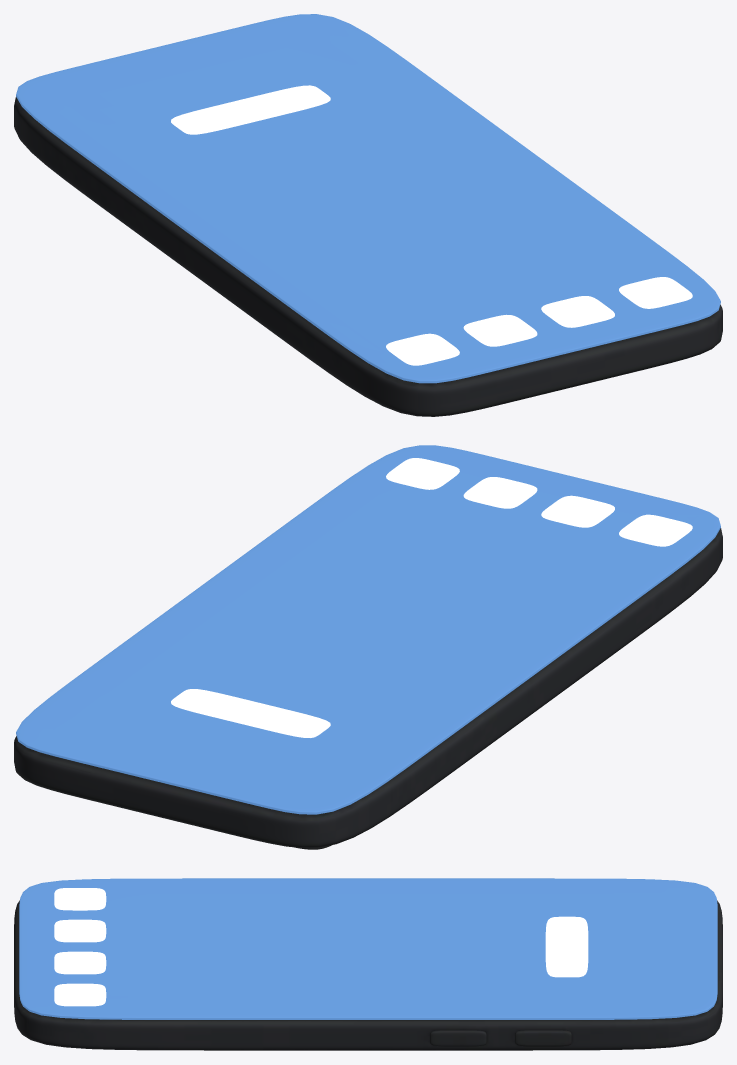
File: graphite.glb
3 renders of one model, top to bottom at view 1: azimuth 30°, elevation 25°; view 2: azimuth 150°, elevation 25°; view 3: azimuth 270°, elevation 25°, orthographic. The views are drawn at different scales.
Visible parts, largest first — view 1: screen_on, aluminium, screen_icon, screen_text; view 2: screen_on, aluminium, screen_icon, screen_text; view 3: screen_on, aluminium, screen_icon, screen_text.
Part boxes in pixels (<box>): screen_on: <box>16,14,720,383</box>; aluminium: <box>14,97,722,416</box>; screen_icon: <box>386,277,692,365</box>; screen_text: <box>171,85,330,134</box>; screen_on: <box>16,445,720,814</box>; aluminium: <box>14,528,722,849</box>; screen_icon: <box>386,458,692,546</box>; screen_text: <box>171,689,330,737</box>; screen_on: <box>19,878,717,1019</box>; aluminium: <box>14,900,722,1050</box>; screen_icon: <box>54,888,106,1006</box>; screen_text: <box>545,916,588,977</box>.
Size of the model in its own units: 0.0728 by 0.0111 by 0.15.
Materials: 13 (1 with a texture image).
